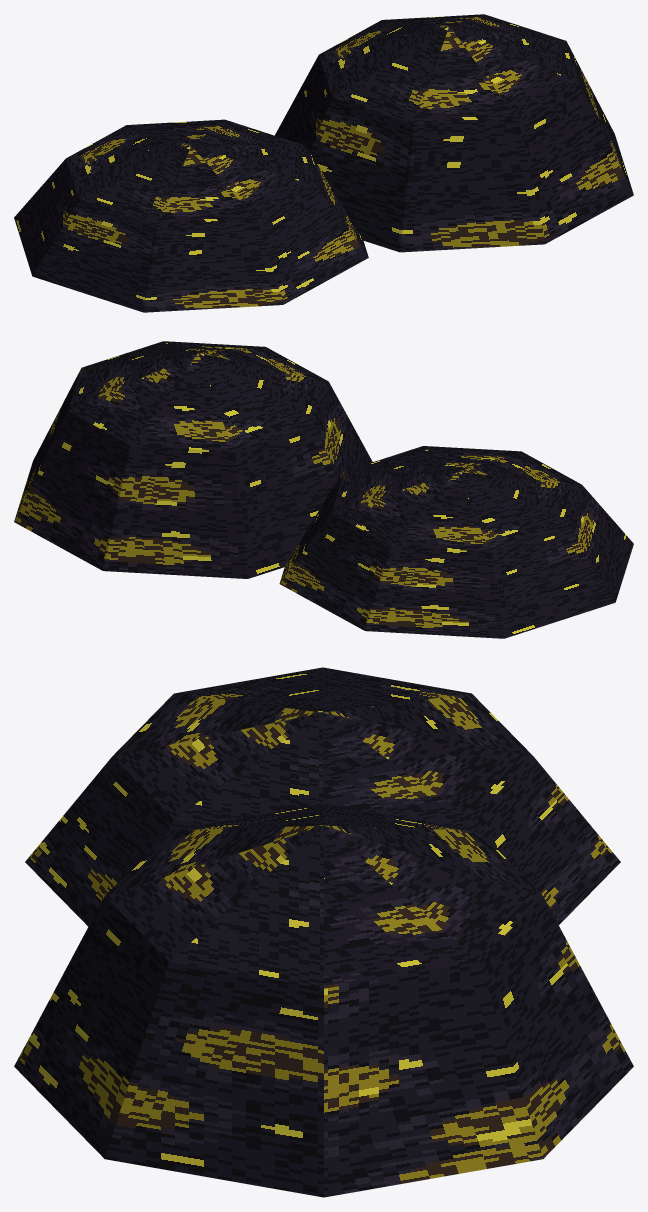
The model's file is PAN-03_Burbujon_suelta.gltf.
3 renders of one model, top to bottom at view 1: azimuth 30°, elevation 25°; view 2: azimuth 150°, elevation 25°; view 3: azimuth 270°, elevation 25°, orthographic. The views are drawn at different scales.
Parts seen in each view (by area): view 1: PAN-03_Burbujon_suelta; view 2: PAN-03_Burbujon_suelta; view 3: PAN-03_Burbujon_suelta.
Part boxes in pixels (left/top/right/bottom): PAN-03_Burbujon_suelta: left=14, top=14, right=633, bottom=312; PAN-03_Burbujon_suelta: left=14, top=341, right=633, bottom=638; PAN-03_Burbujon_suelta: left=14, top=667, right=633, bottom=1197.
Bounding box in the file's own units: 0.6669 × 0.1624 × 0.3787.
1 material, 1 textured.
